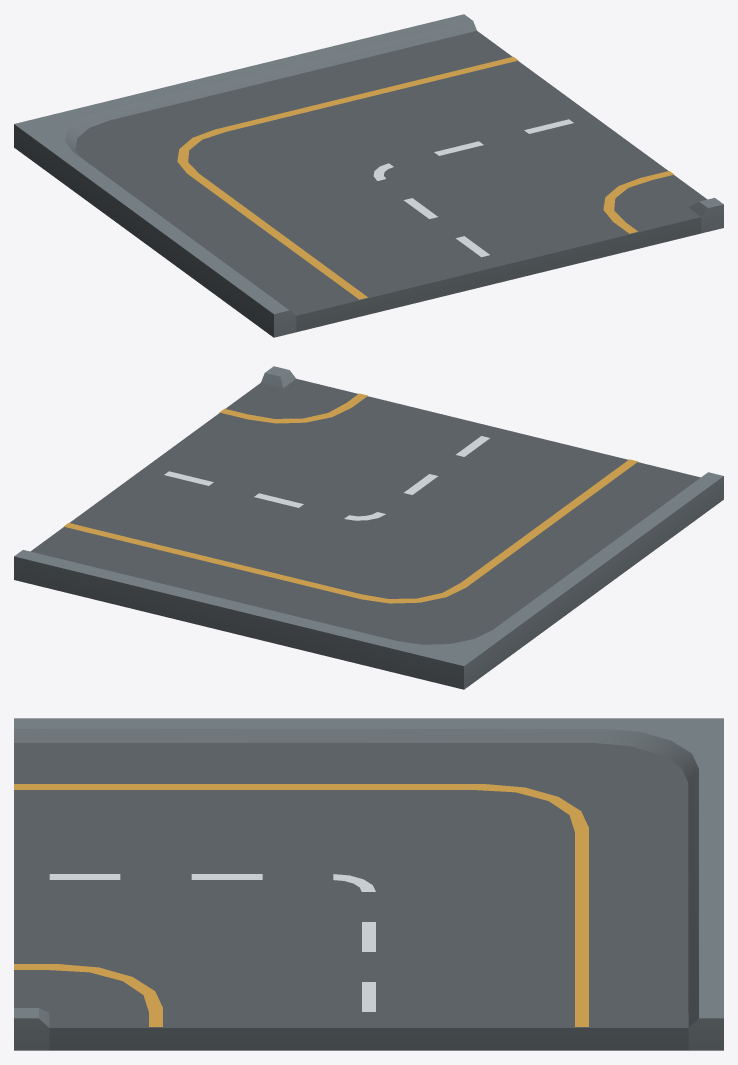
File: road-corner.glb
3 renders of one model, top to bottom at view 1: azimuth 30°, elevation 25°; view 2: azimuth 150°, elevation 25°; view 3: azimuth 270°, elevation 25°, orthographic. The views are drawn at different scales.
Parts seen in each view (by area): view 1: road_corner; view 2: road_corner; view 3: road_corner.
Boxes of the visible parts, bbox=[...] form: road_corner: bbox=[14, 14, 723, 337]; road_corner: bbox=[14, 366, 723, 689]; road_corner: bbox=[14, 718, 723, 1050].
Bounding box in the file's own units: 2 × 0.1 × 2.
1 material, 1 textured.
